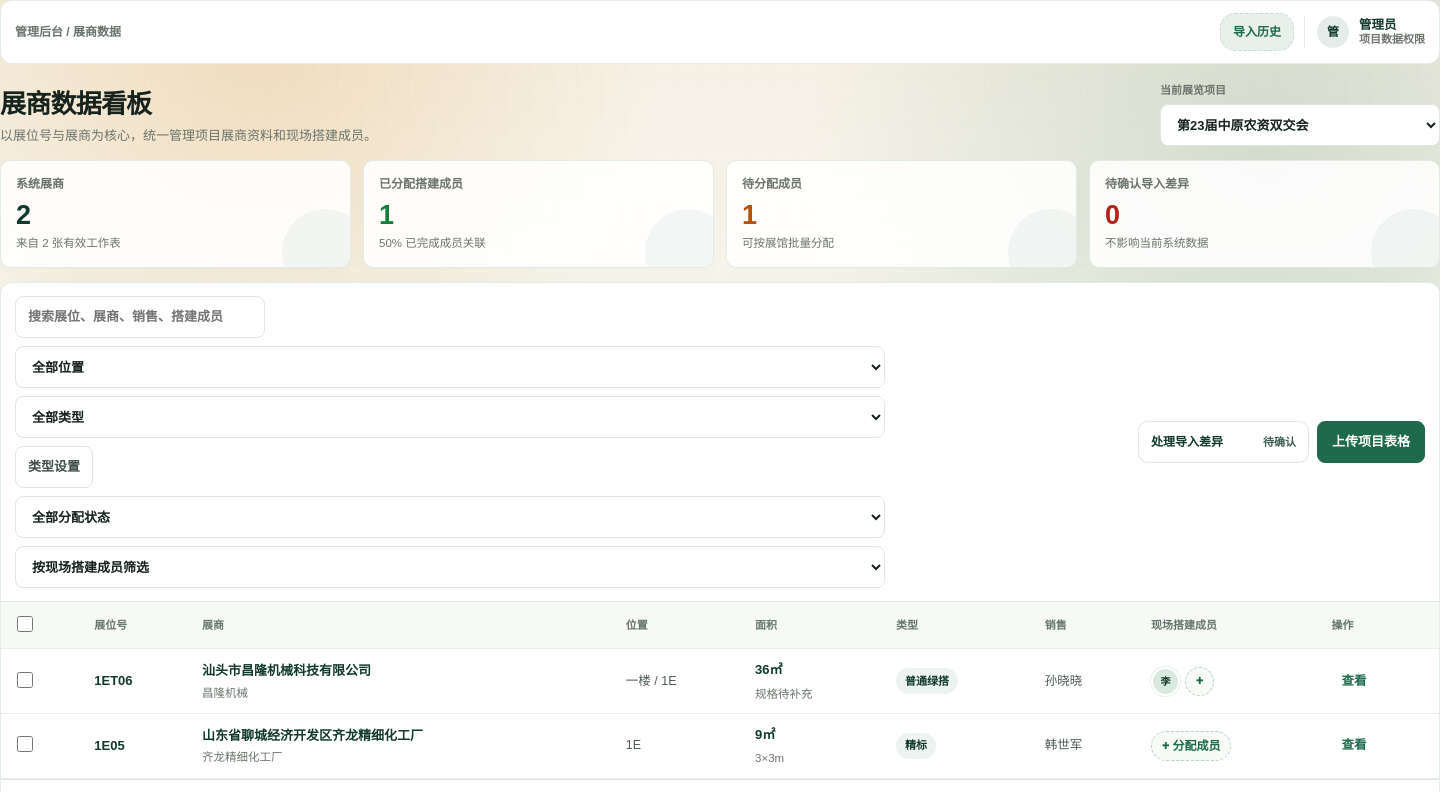
it: ExhibitorDashboard › dismisses type settings with Escape and restores focus
Click the button "类型设置" at (54, 467), box top-left (15, 446), bottom-right (93, 488)
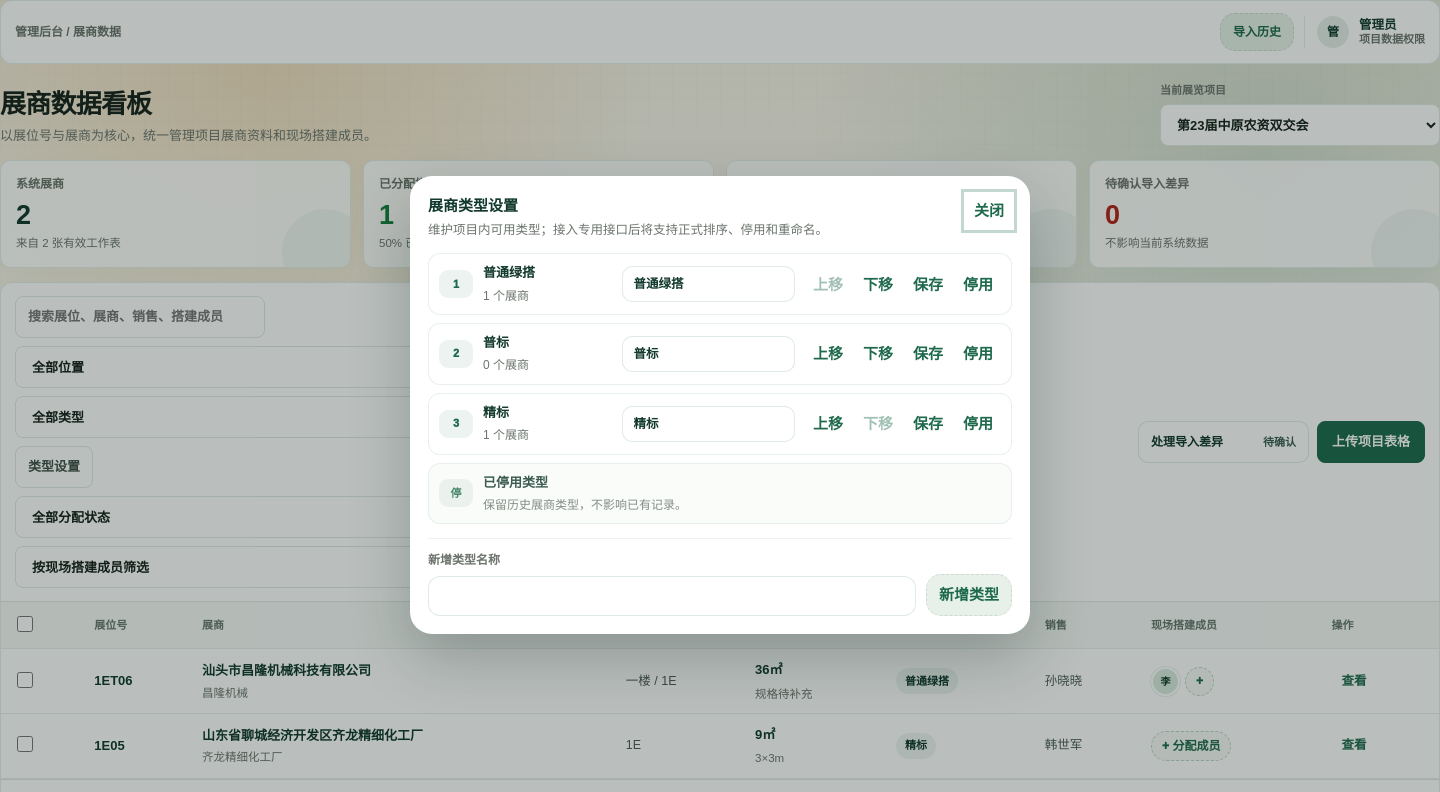
Press Escape
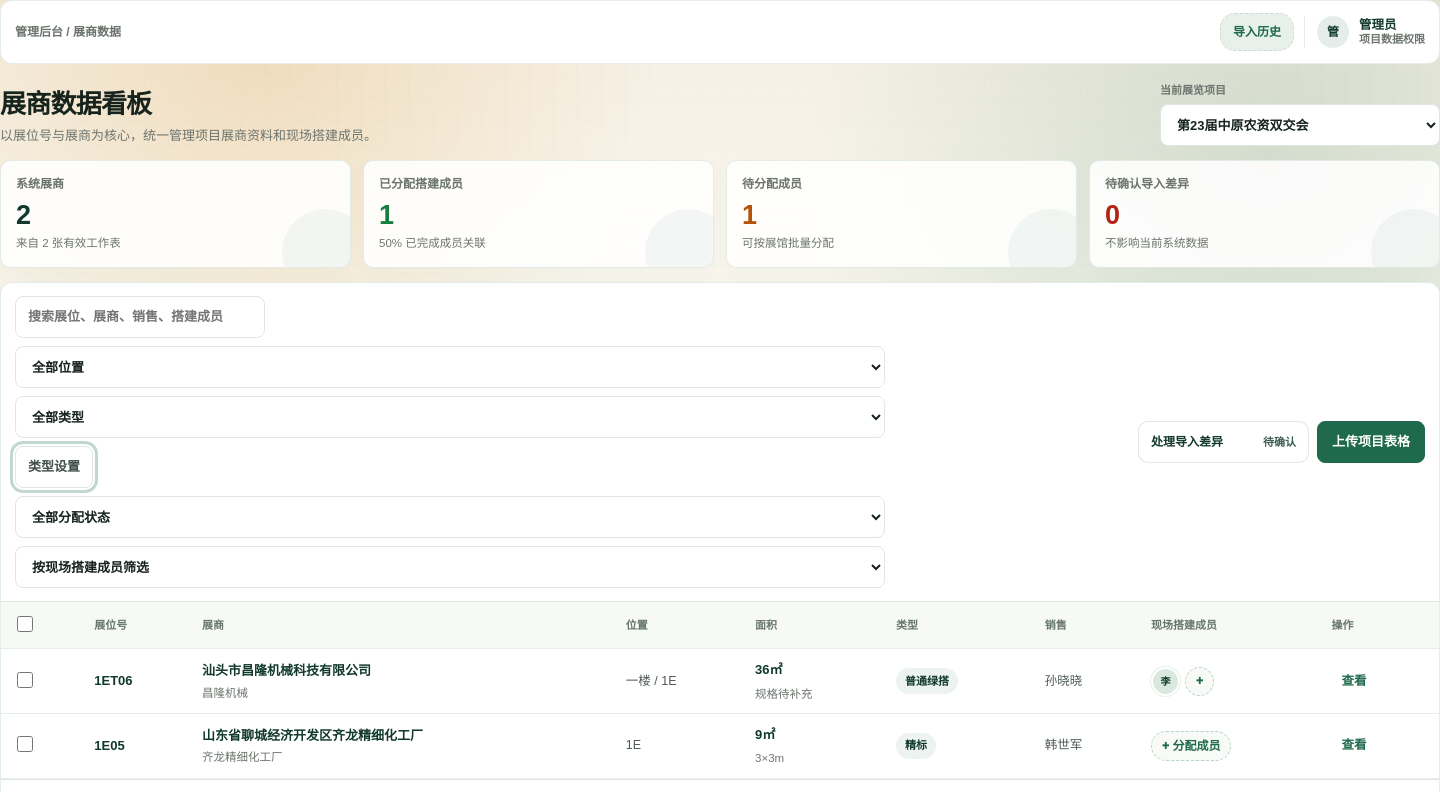
Expected: the heading "展商类型设置" is gone
